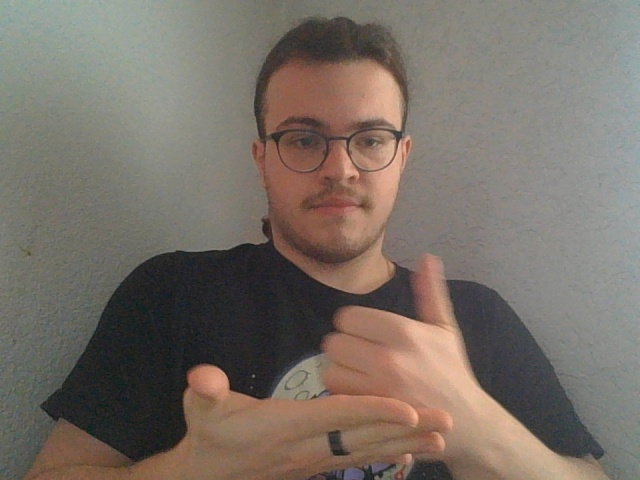Help: (289, 248, 473, 472)
